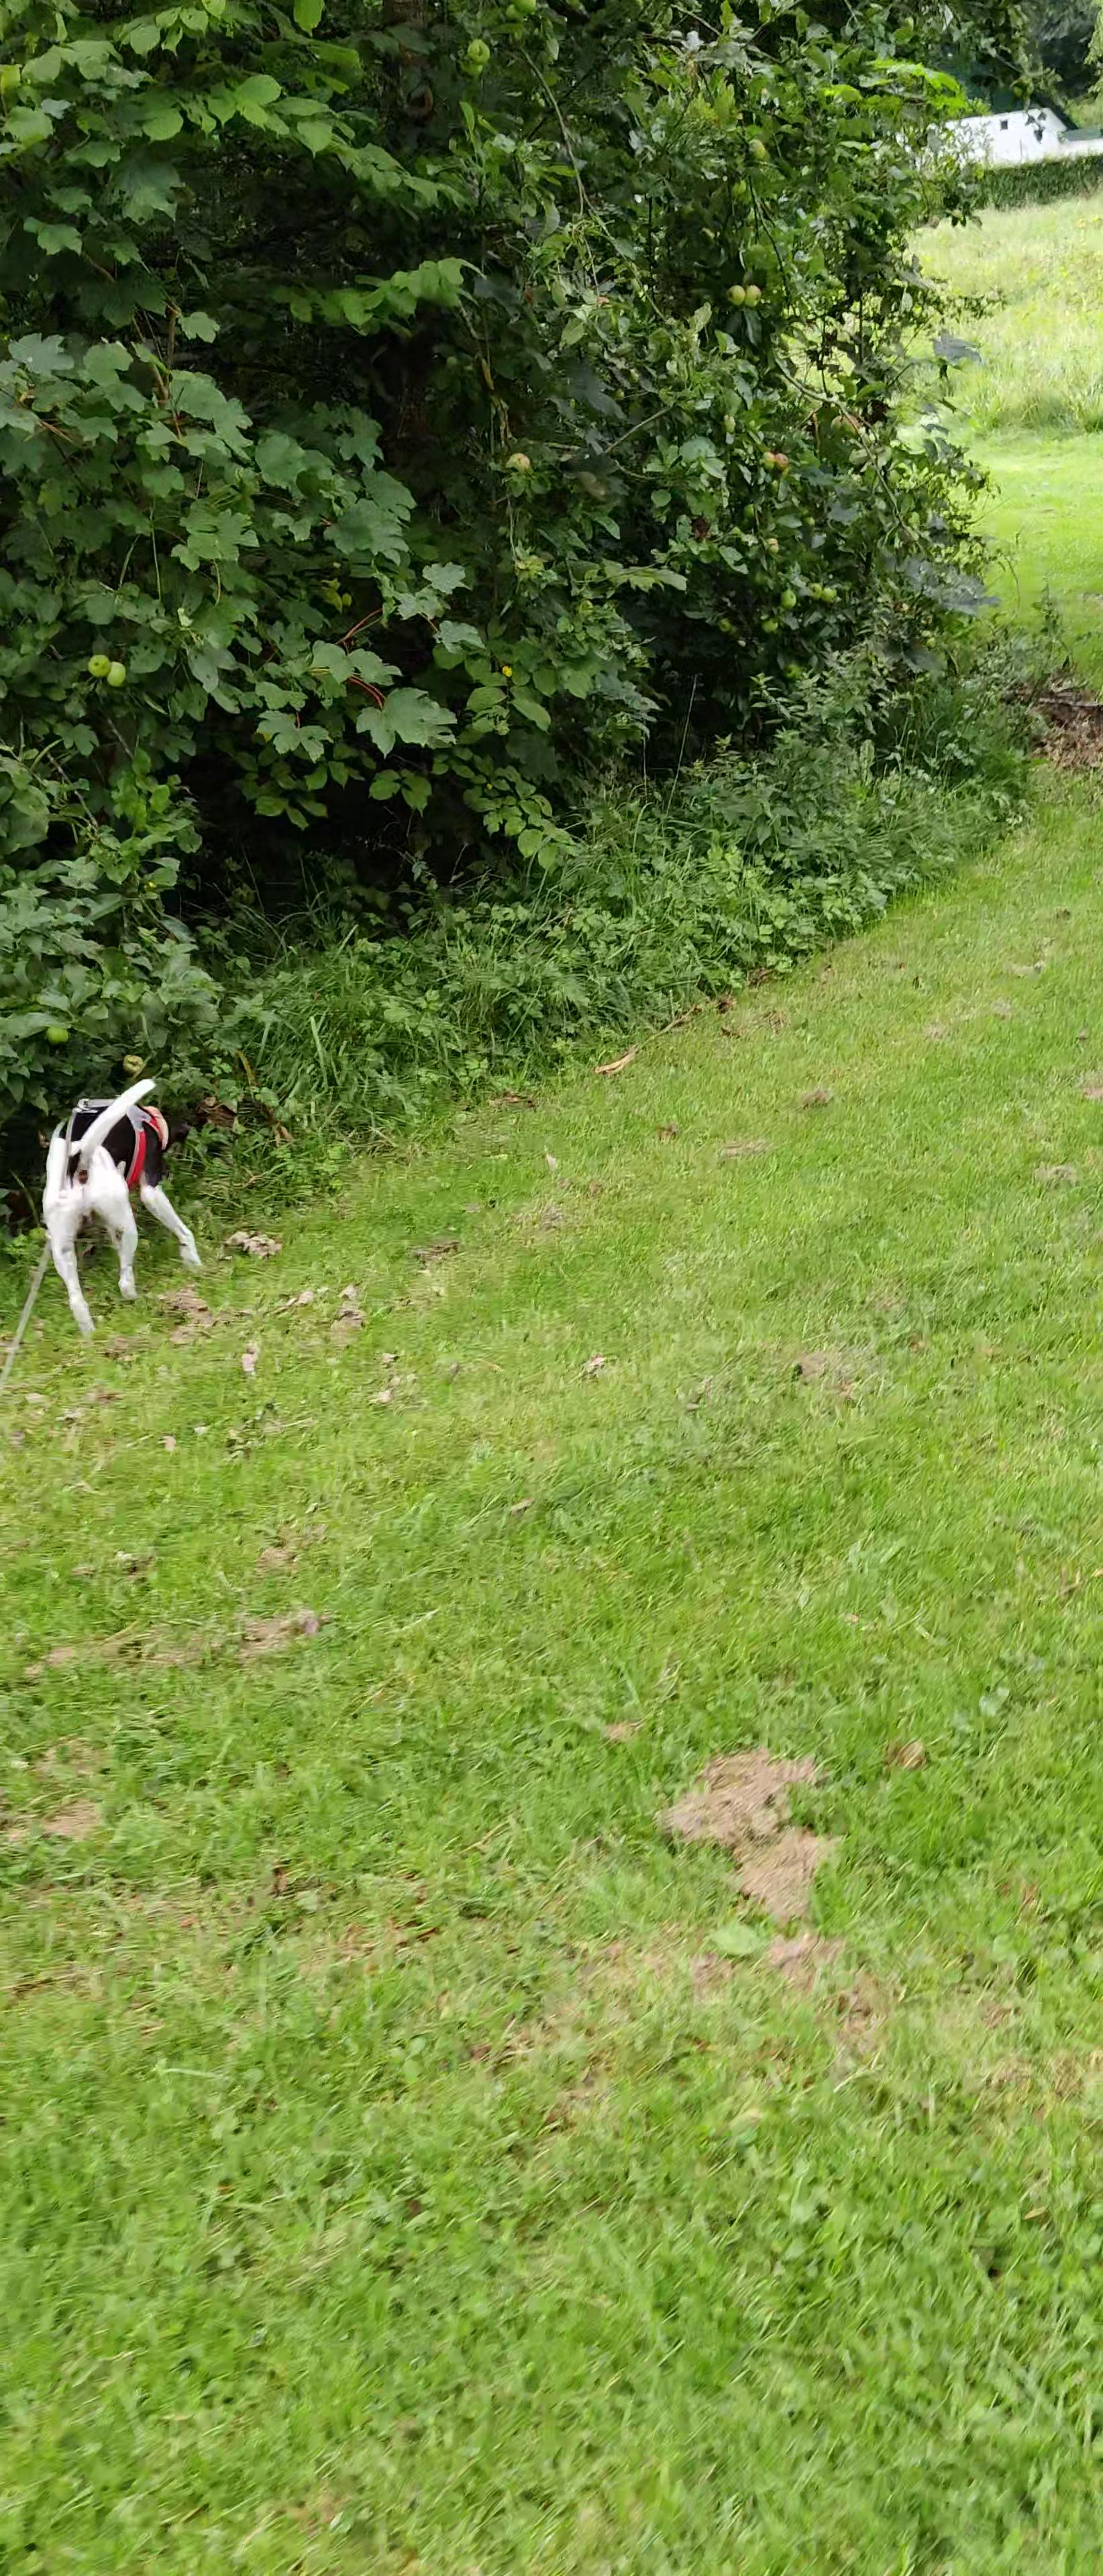Dog: (30, 1069, 209, 1337)
